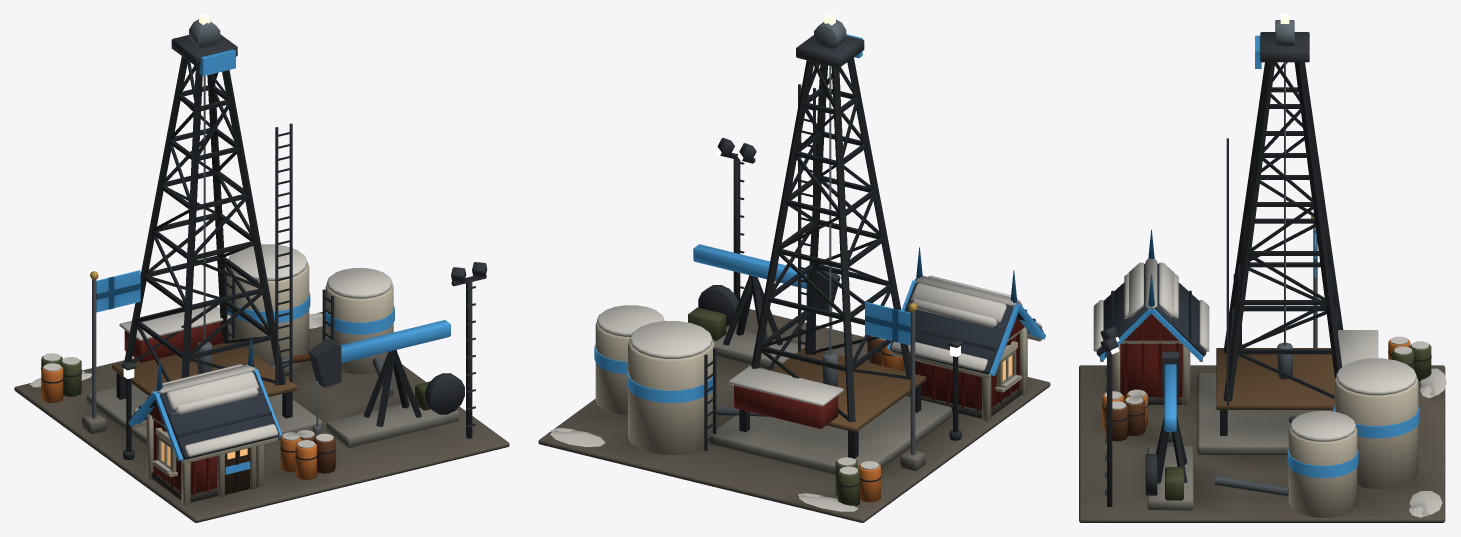
The model's file is derrick.glb.
3 views of the same model, side by side, from view 1: azimuth 30°, elevation 25°; view 2: azimuth 150°, elevation 25°; view 3: azimuth 270°, elevation 25° (orthographic). The views are drawn at different scales.
Parts seen in each view (by area): view 1: derrick_root_matte, derrick_root_metal, derrick_root_trim, derrick_pump_trim, flag, derrick_pump_metal; view 2: derrick_root_matte, derrick_root_metal, derrick_root_trim, derrick_pump_trim, flag, derrick_pump_metal; view 3: derrick_root_matte, derrick_root_metal, derrick_root_trim, derrick_pump_trim.
Boxes of the visible parts, x1,y1,x2,y2 form: derrick_root_matte: (14, 244, 509, 522); derrick_root_metal: (90, 19, 487, 459); derrick_root_trim: (128, 49, 394, 474); derrick_pump_trim: (340, 320, 450, 363); flag: (96, 270, 140, 312); derrick_pump_metal: (308, 338, 341, 426); derrick_root_matte: (538, 275, 1050, 522); derrick_root_metal: (698, 19, 963, 458); derrick_root_trim: (594, 34, 1045, 402); derrick_pump_trim: (693, 244, 806, 288); flag: (865, 302, 910, 345); derrick_pump_metal: (806, 264, 840, 352); derrick_root_matte: (1079, 258, 1446, 522); derrick_root_metal: (1100, 20, 1343, 506); derrick_root_trim: (1099, 35, 1419, 477); derrick_pump_trim: (1164, 364, 1176, 431).
Size of the model in its own units: 9.78 by 11.81 by 9.65.
